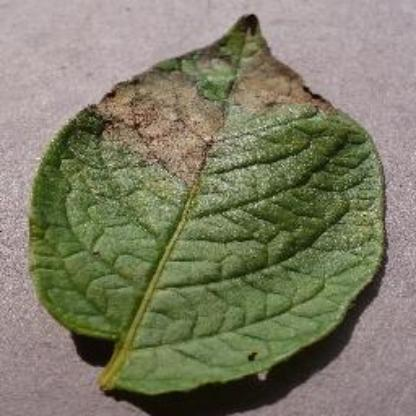Late-Blight: (18, 8, 400, 406)
